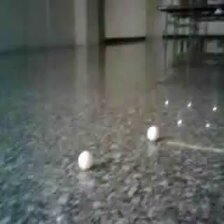w: (77, 150, 93, 170), (146, 126, 158, 141)
